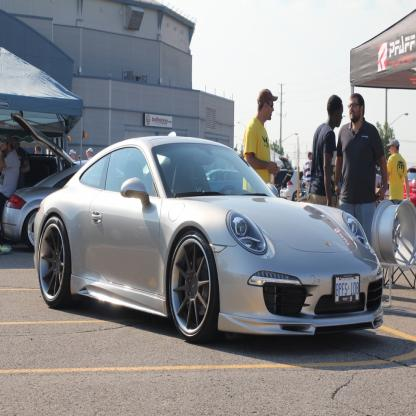Car: (2, 112, 416, 345)
